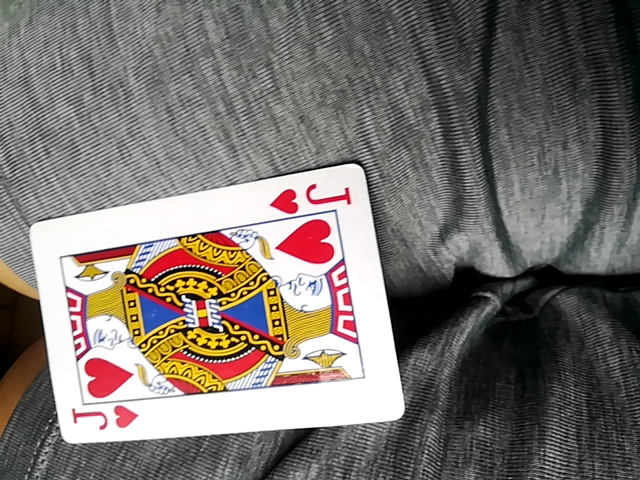hx j: (29, 165, 402, 441)
